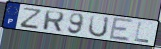9: (67, 13, 86, 36)
E: (108, 16, 134, 42)
L: (133, 21, 150, 44)
R: (42, 10, 66, 33)
U: (87, 15, 111, 38)
Z: (18, 7, 44, 30)
